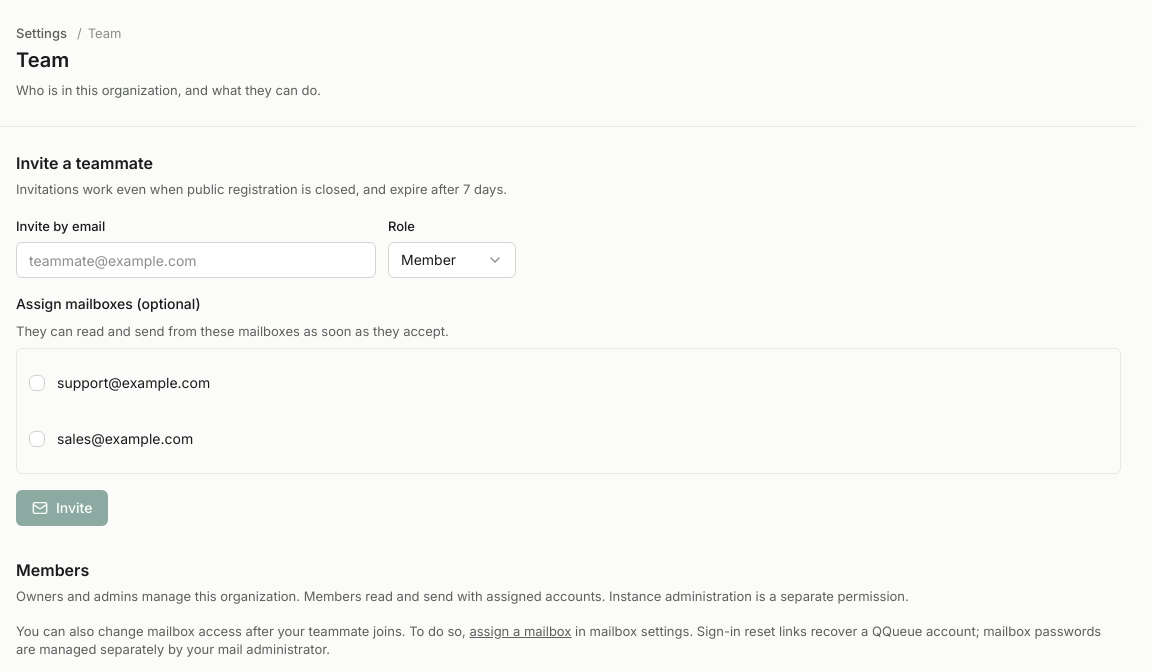
Test: assign mailboxes with an invitation › explains automatic owner/admin access instead of offering member assignments
The image size is (1152, 672).
Expected: the checkbox named "support@example.com" next to "support@example.com" is shown, [29, 375, 45, 391]
Step 1. Click the dropdown named "Role" → (452, 260), box [388, 242, 516, 278]
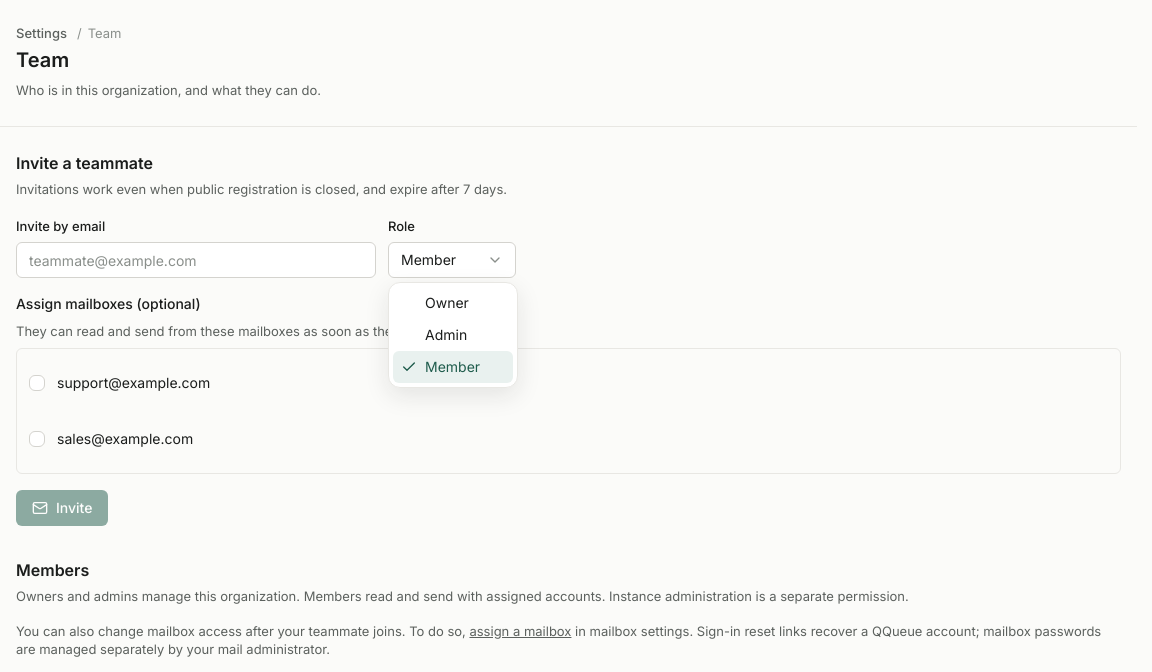
Step 2. Click the option "Admin" → (446, 334), box [425, 326, 467, 343]
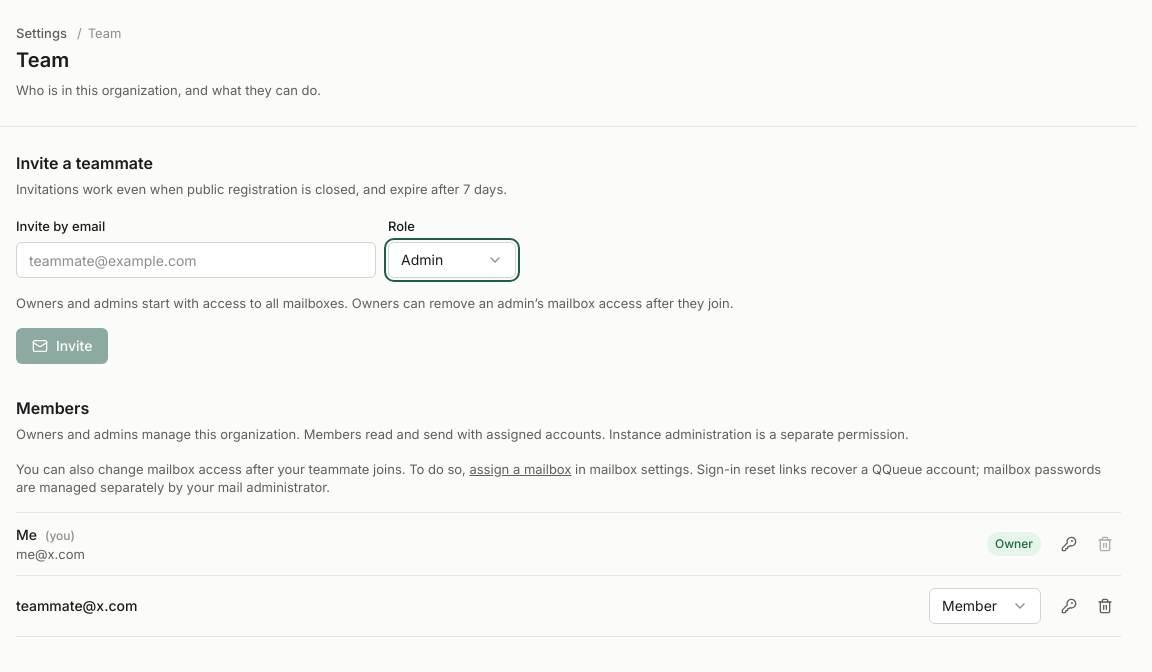
Expected: the checkbox is gone
Expected: the text "Owners and admins start with access to all mailboxes" is shown, [16, 295, 733, 311]
